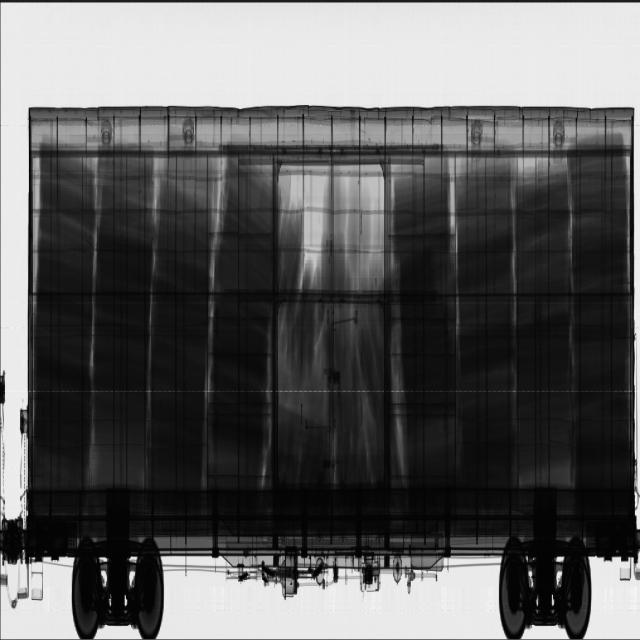clothes: (55, 122, 500, 465)
